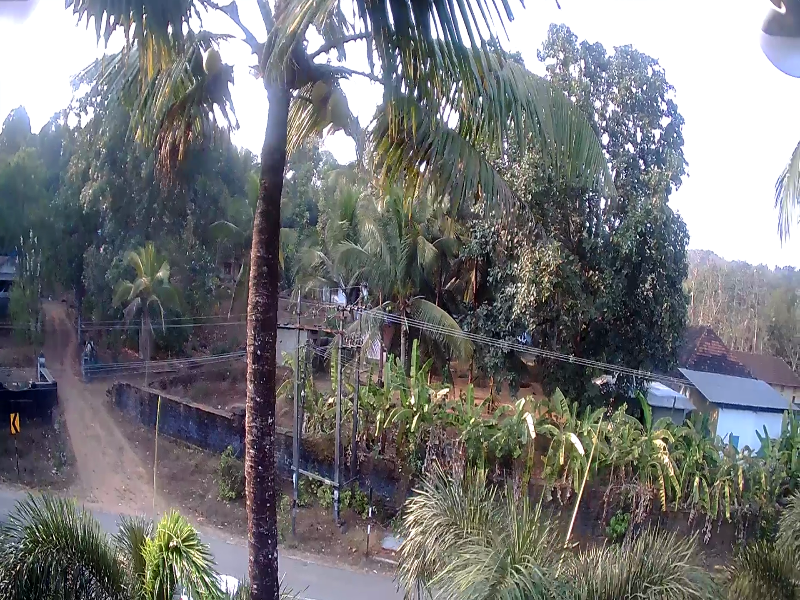coconut: (328, 80, 348, 134), (202, 45, 221, 82), (312, 73, 325, 115)
